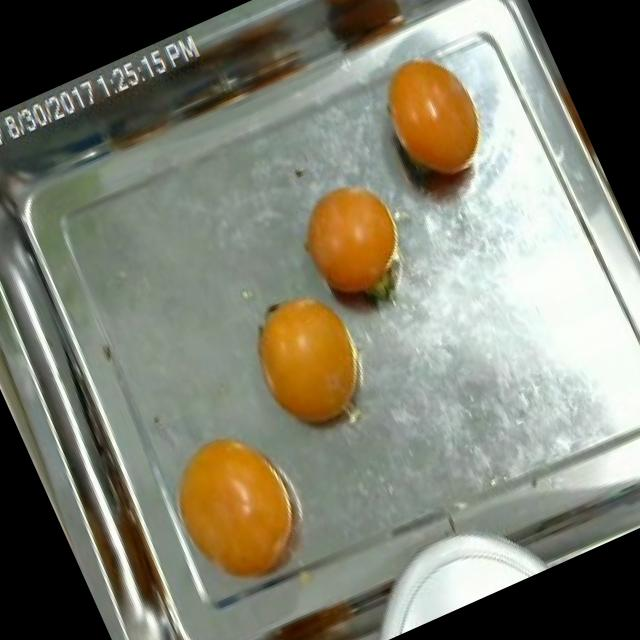Fruit: (138, 403, 338, 622), (224, 270, 391, 462), (276, 158, 433, 332), (352, 31, 508, 204), (295, 0, 440, 83)
